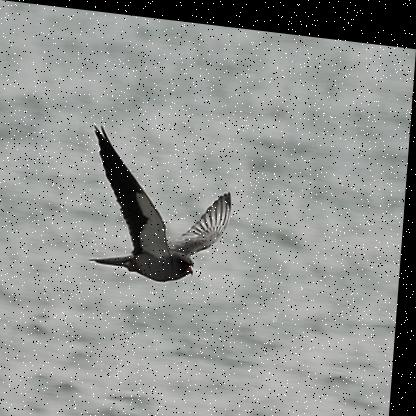Burung: (88, 119, 242, 290)
